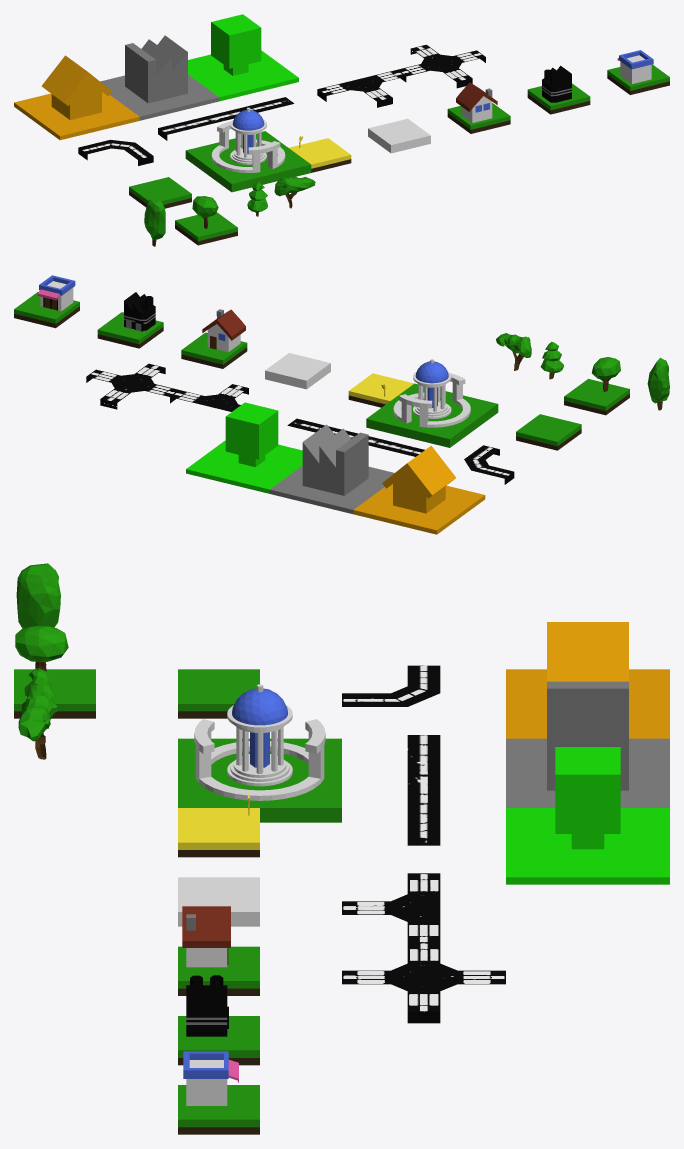
File: cross_3.dae
The picture shows the model from 3 angles, top to bottom: view 1: azimuth 30°, elevation 25°; view 2: azimuth 150°, elevation 25°; view 3: azimuth 270°, elevation 25°; orthographic projection. The views are drawn at different scales.
Visible parts, largest first — view 1: Cube.001, Cube.002, Cube, Cube.004, house_tile, factory_tile, shop_tile, road_cross_4, Cylinder.001, water, Cube.005, road_cross_3 (+12 smaller); view 2: Cube.001, Cube.002, Cube, Cube.004, house_tile, factory_tile, shop_tile, road_cross_4, Cylinder.001, Cube.003, water, Cube.005 (+11 smaller); view 3: Cube.002, Cube.001, Cube, Cube.004, shop_tile, house_tile, factory_tile, road_cross_4, Cylinder.001, field, road_cross_3, Cube.003 (+11 smaller).
Boxes of the visible parts, bbox=[...] form: Cube.001: bbox=[100, 35, 219, 120]; Cube.002: bbox=[188, 14, 298, 101]; Cube: bbox=[14, 55, 139, 140]; Cube.004: bbox=[185, 131, 311, 192]; house_tile: bbox=[447, 82, 510, 133]; factory_tile: bbox=[527, 65, 590, 114]; shop_tile: bbox=[607, 50, 669, 94]; road_cross_4: bbox=[397, 44, 485, 88]; Cylinder.001: bbox=[211, 121, 285, 172]; water: bbox=[368, 118, 430, 153]; Cube.005: bbox=[175, 212, 237, 245]; road_cross_3: bbox=[317, 70, 406, 107]; Cube.001: bbox=[269, 424, 394, 513]; Cube.002: bbox=[186, 402, 302, 493]; Cube: bbox=[353, 445, 485, 534]; Cube.004: bbox=[366, 383, 498, 447]; house_tile: bbox=[181, 309, 247, 368]; factory_tile: bbox=[97, 292, 163, 348]; shop_tile: bbox=[14, 275, 79, 328]; road_cross_4: bbox=[86, 363, 178, 409]; Cylinder.001: bbox=[393, 373, 470, 427]; Cube.003: bbox=[516, 414, 581, 450]; water: bbox=[265, 353, 330, 389]; Cube.005: bbox=[564, 379, 629, 415]; Cube.002: bbox=[506, 747, 669, 884]; Cube.001: bbox=[506, 681, 669, 807]; Cube: bbox=[506, 622, 669, 738]; Cube.004: bbox=[178, 738, 341, 822]; shop_tile: bbox=[178, 1051, 259, 1134]; house_tile: bbox=[178, 906, 259, 995]; factory_tile: bbox=[178, 975, 259, 1065]; road_cross_4: bbox=[342, 942, 505, 1023]; Cylinder.001: bbox=[194, 719, 325, 800]; field: bbox=[178, 808, 259, 857]; road_cross_3: bbox=[342, 873, 440, 942]; Cube.003: bbox=[178, 669, 259, 718].
Bounding box in the file's own units: 0.1412 × 0.08 × 0.0138.
16 materials, 3 textured.
